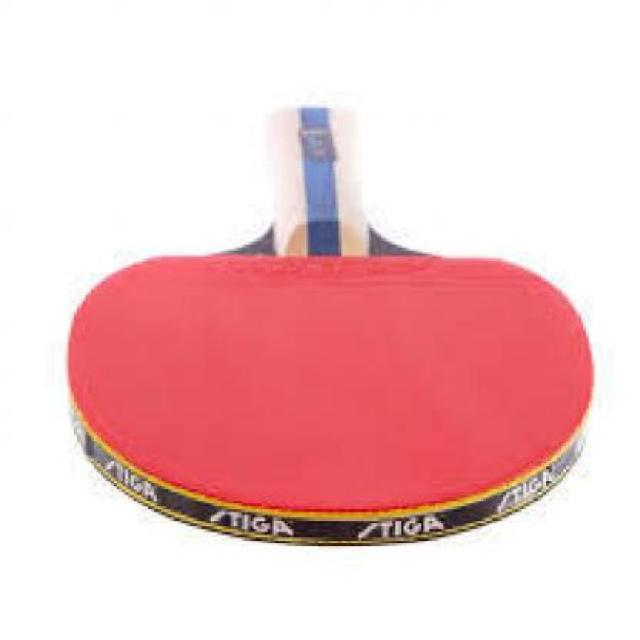table_tennis_racket: (55, 226, 593, 543)
